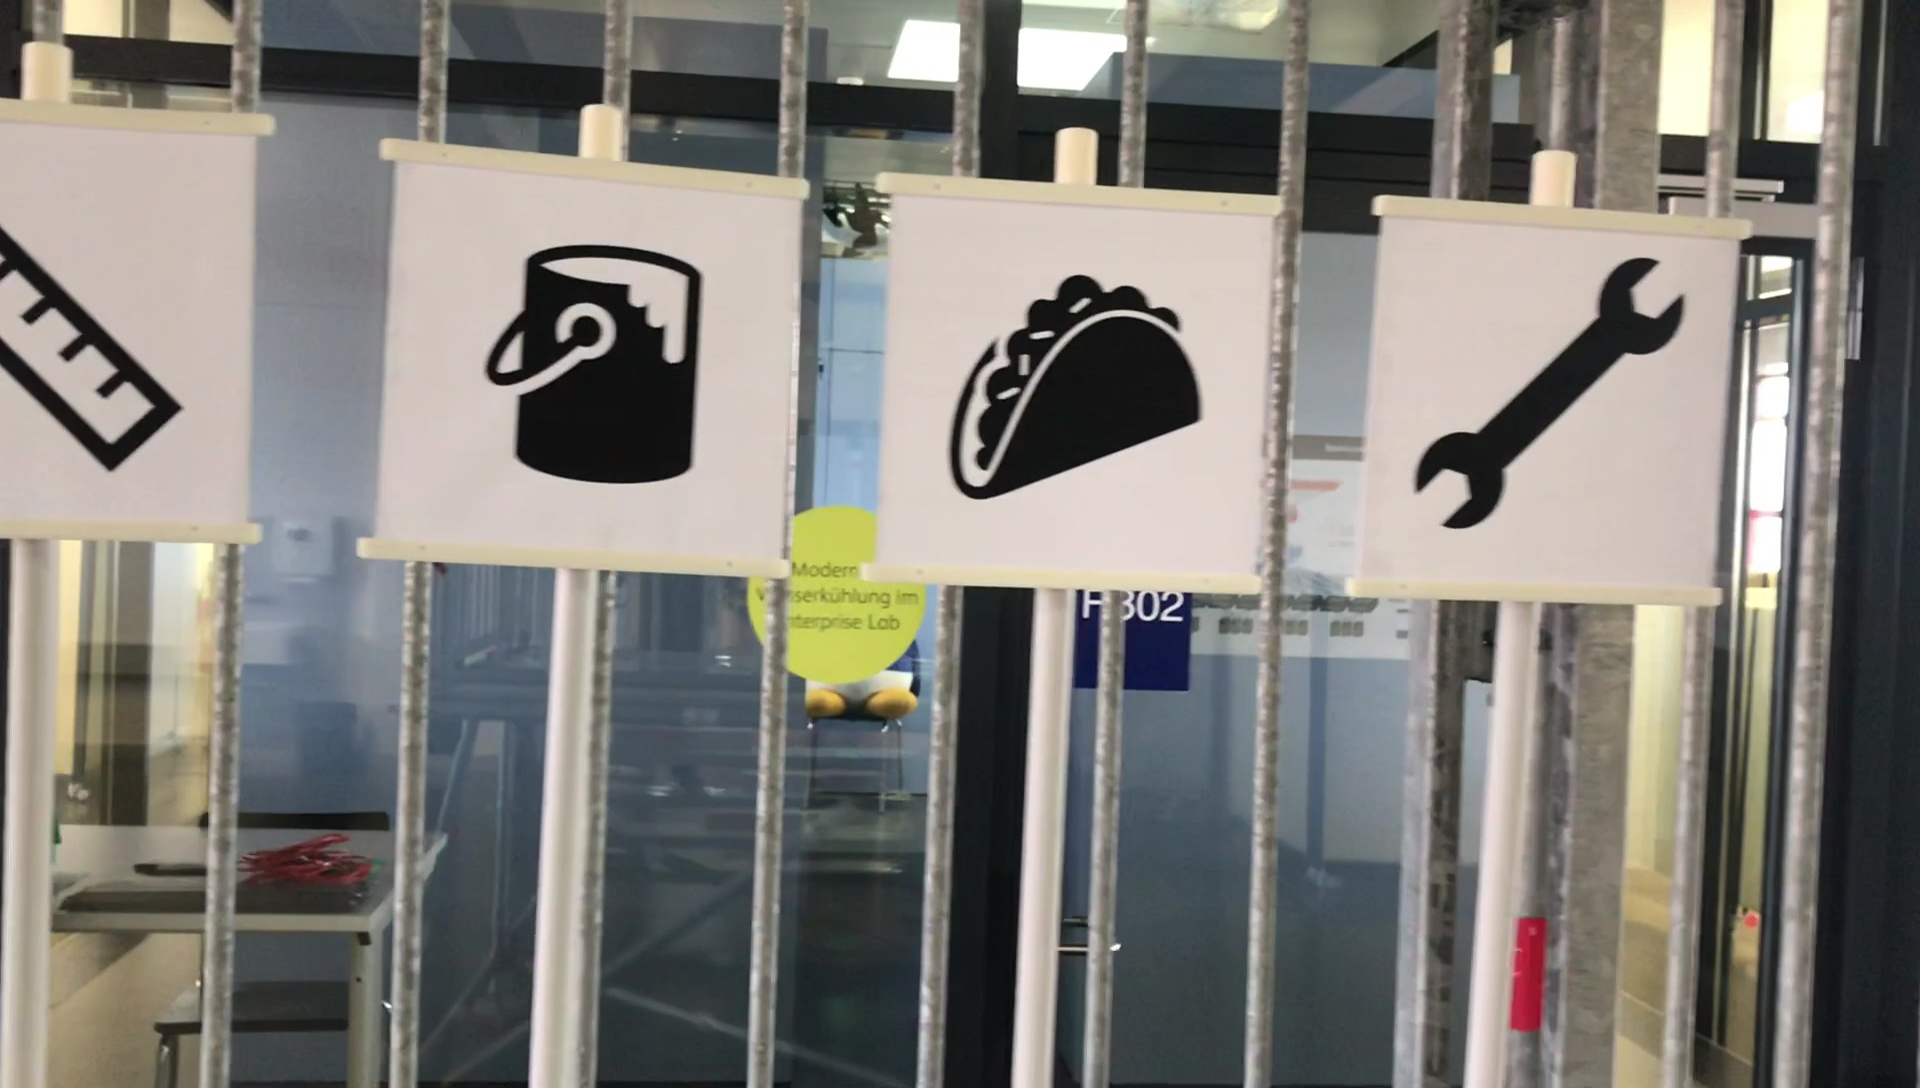bucket: (477, 244, 708, 495)
ruler: (0, 196, 189, 475)
taco: (944, 265, 1220, 508)
wrench: (1404, 251, 1695, 538)
